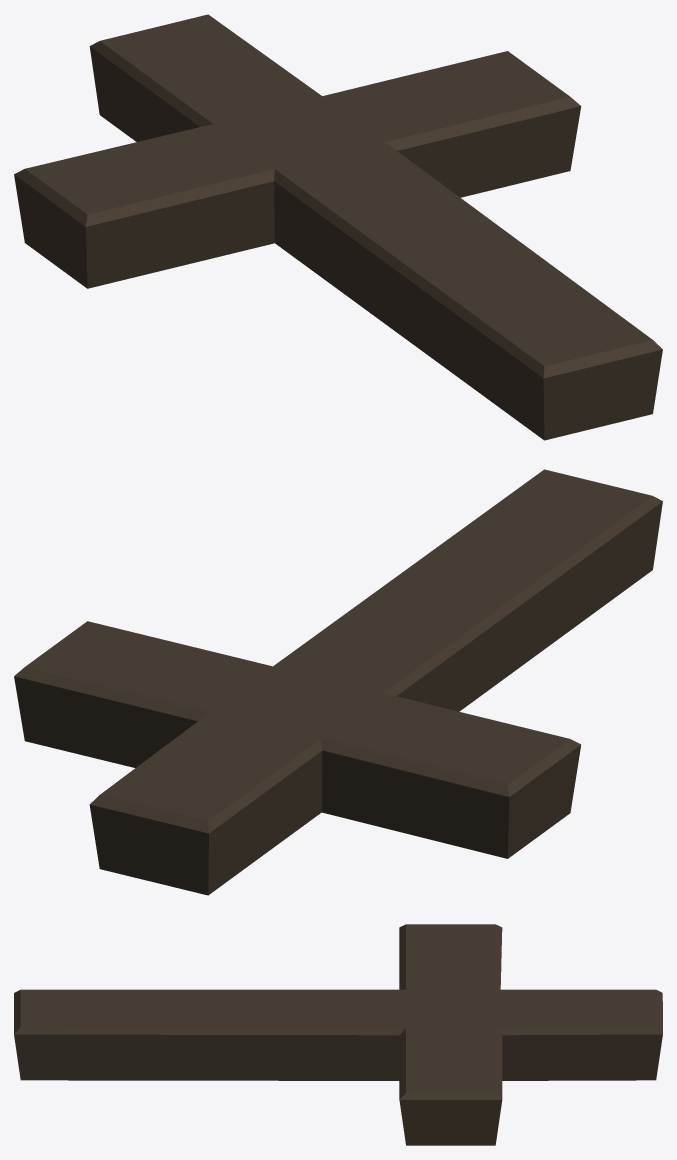
File: Cross_K.fbx
The picture shows the model from 3 angles, top to bottom: view 1: azimuth 30°, elevation 25°; view 2: azimuth 150°, elevation 25°; view 3: azimuth 270°, elevation 25°; orthographic projection. The views are drawn at different scales.
Visible parts, largest first — view 1: Cross_K; view 2: Cross_K; view 3: Cross_K.
Boxes of the visible parts, x1,y1,x2,y2 form: Cross_K: (14,14,662,440); Cross_K: (14,469,662,895); Cross_K: (14,924,662,1145).
Size of the model in its own units: 35.15 by 5.03 by 55.83.
